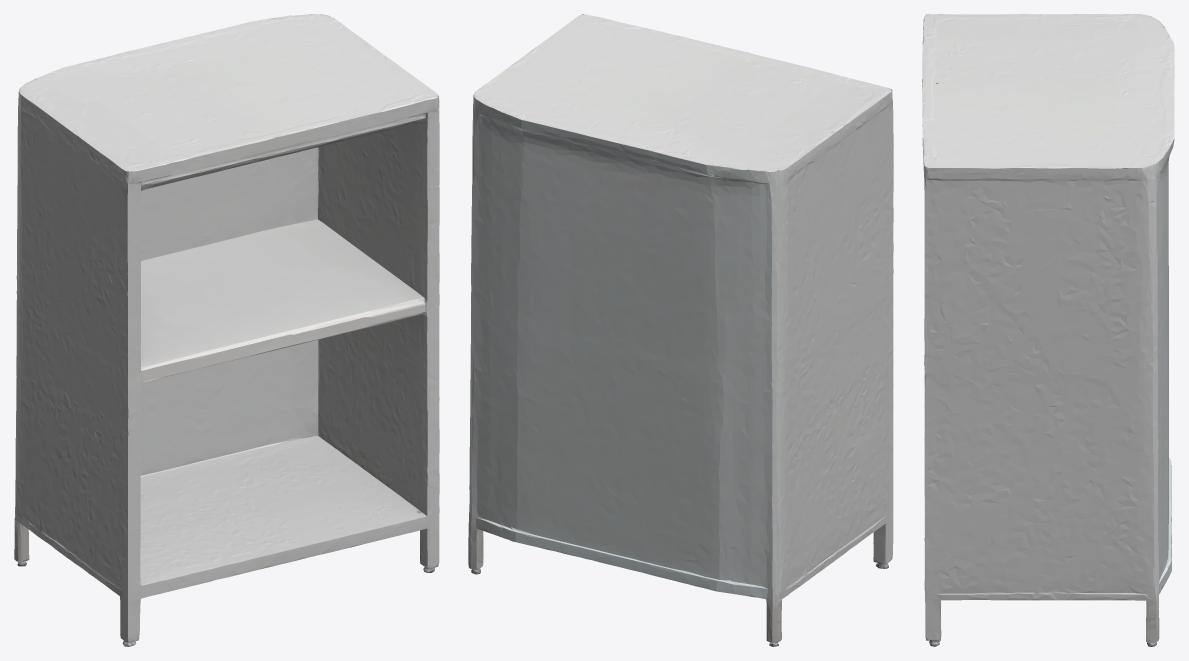
3 renders of one model, left to right at view 1: azimuth 30°, elevation 25°; view 2: azimuth 150°, elevation 25°; view 3: azimuth 270°, elevation 25°, orthographic.
Parts seen in each view (by area): view 1: geometry_0; view 2: geometry_0; view 3: geometry_0.
Part boxes in pixels (<box>): geometry_0: <box>14,14,439,646</box>; geometry_0: <box>468,14,893,646</box>; geometry_0: <box>922,14,1174,646</box>.
Bounding box in the file's own units: 0.6875 × 1 × 0.4763.
Materials: 1 (1 with a texture image).
